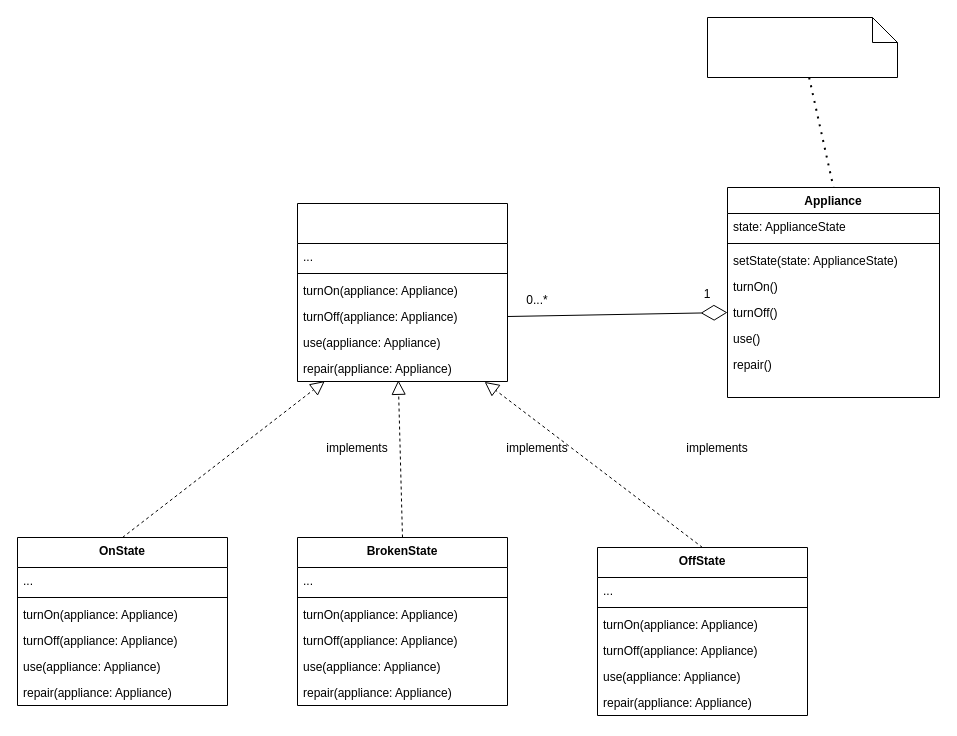
Image size: 957x736. Some labels were removed from this diagram. The box of each missing label's shape, as (x1, y1, x2, y2) in pixels:
delegates state specific behavior to its current state object: (706, 16, 898, 78)
«interface» ApplianceState: (296, 202, 508, 382)
